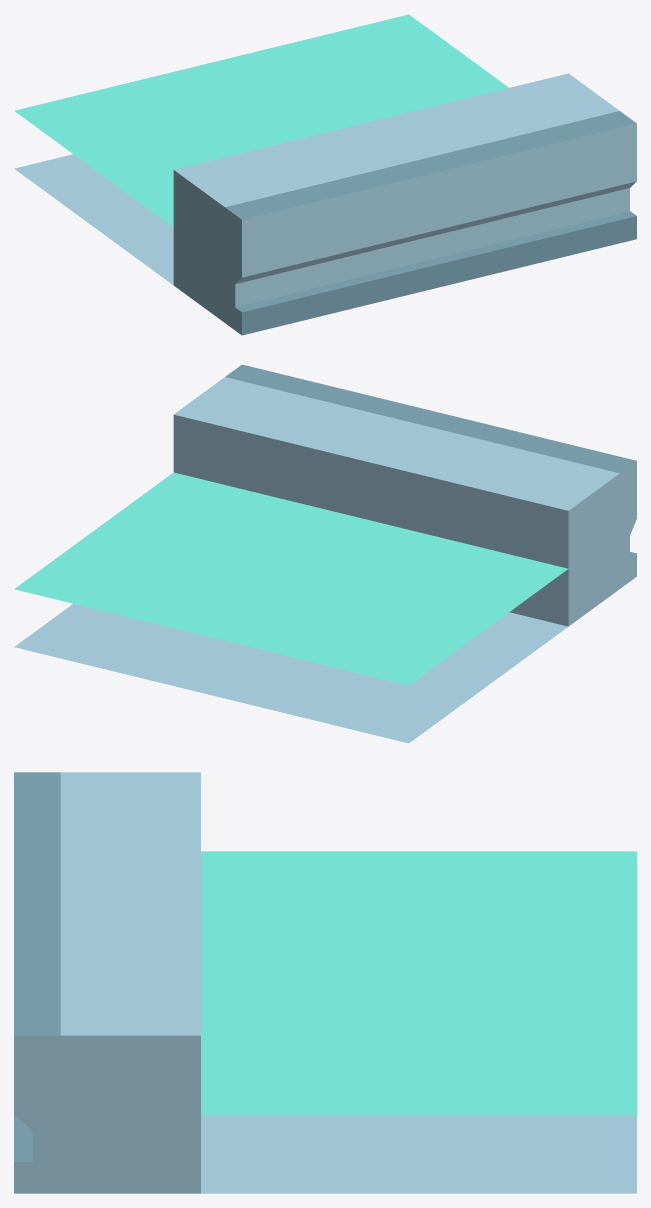
Rendered from fountainEdge.fbx.
3 views of the same model, one above another, from view 1: azimuth 30°, elevation 25°; view 2: azimuth 150°, elevation 25°; view 3: azimuth 270°, elevation 25° (orthographic). The views are drawn at different scales.
Visible parts, largest first — view 1: fountainEdge; view 2: fountainEdge; view 3: fountainEdge.
Part boxes in pixels (<box>): fountainEdge: <box>14,14,636,335</box>; fountainEdge: <box>14,364,636,743</box>; fountainEdge: <box>14,772,636,1193</box>.
Size of the model in its own units: 10 by 2.8 by 10.
